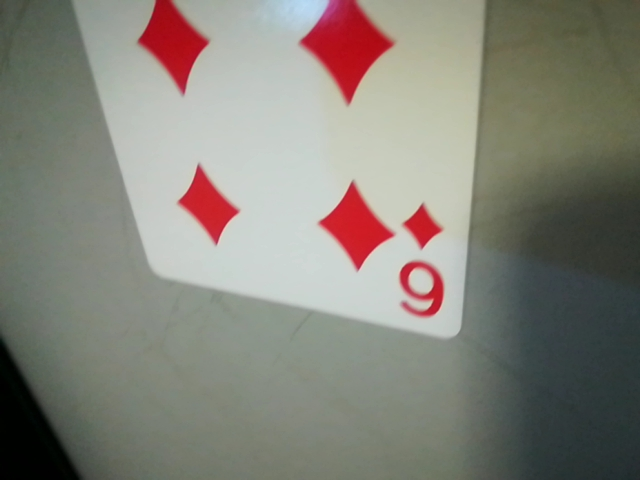fk 6: (385, 195, 461, 330)
